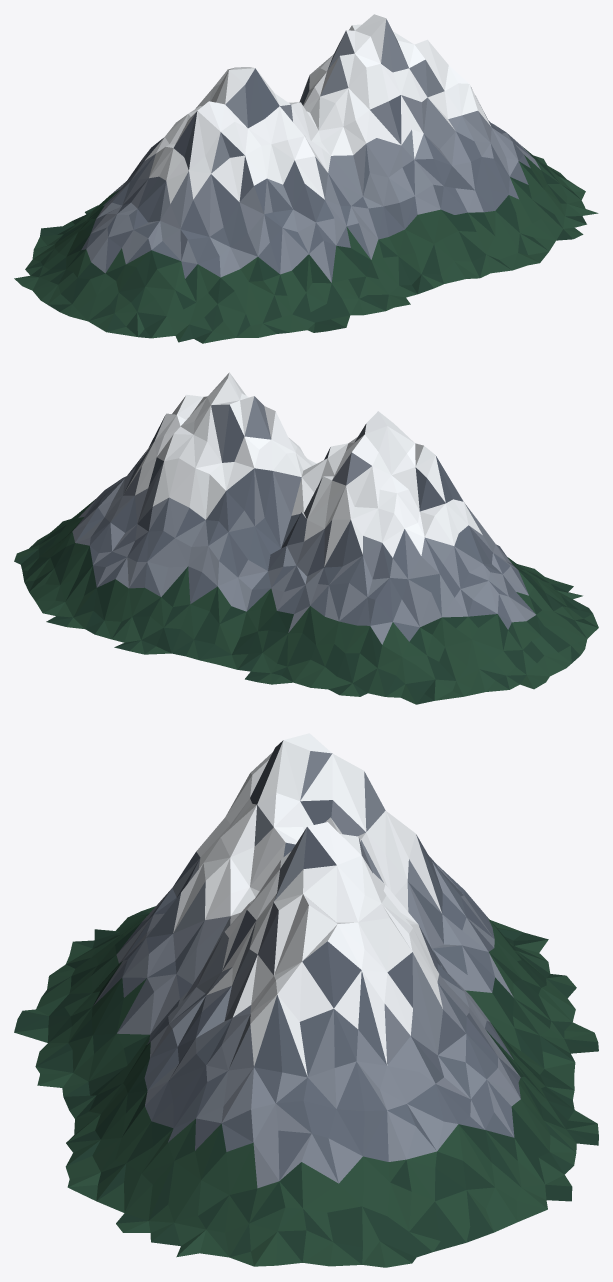
File: mountain_b.glb
The picture shows the model from 3 angles, top to bottom: view 1: azimuth 30°, elevation 25°; view 2: azimuth 150°, elevation 25°; view 3: azimuth 270°, elevation 25°; orthographic projection. The views are drawn at different scales.
Visible parts, largest first — view 1: mountain_mesh; view 2: mountain_mesh; view 3: mountain_mesh.
Boxes of the visible parts, x1,y1,x2,y2 form: mountain_mesh: (14, 14, 598, 343); mountain_mesh: (14, 372, 598, 704); mountain_mesh: (14, 733, 598, 1267).
Bounding box in the file's own units: 2.62 × 0.9814 × 1.69.
